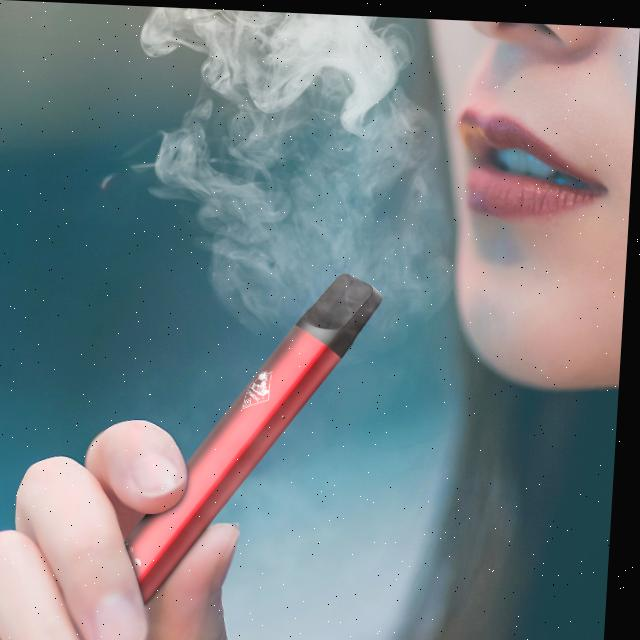vape: (125, 260, 385, 607)
